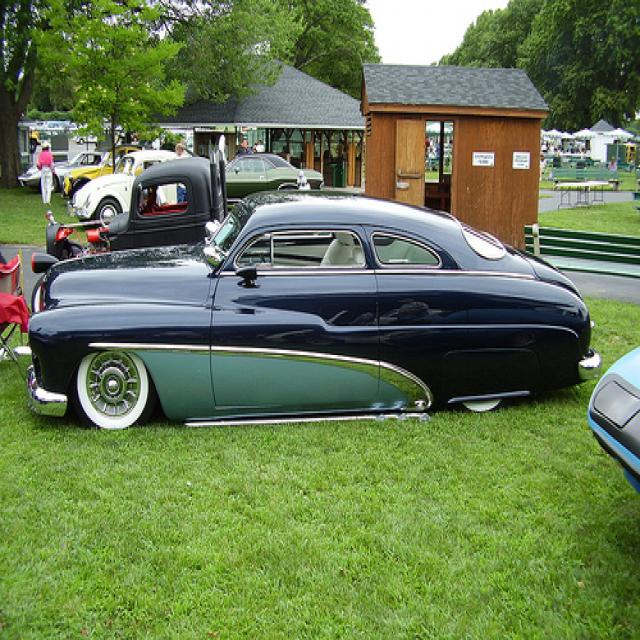Car: (16, 198, 601, 438)
